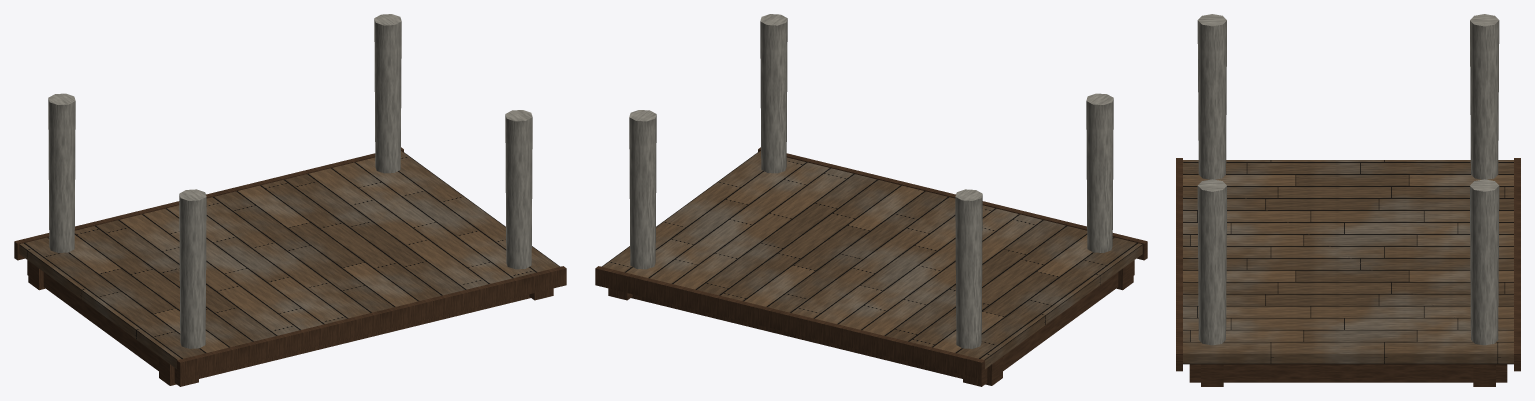
The model's file is SM_Art_Pier_405x300x100_P-150.gltf.
3 views of the same model, side by side, from view 1: azimuth 30°, elevation 25°; view 2: azimuth 150°, elevation 25°; view 3: azimuth 270°, elevation 25° (orthographic). The views are drawn at different scales.
Visible parts, largest first — view 1: SM_Art_Pier_405x300x100_P-150; view 2: SM_Art_Pier_405x300x100_P-150; view 3: SM_Art_Pier_405x300x100_P-150.
Boxes of the visible parts, x1,y1,x2,y2 form: SM_Art_Pier_405x300x100_P-150: (14, 14, 566, 386); SM_Art_Pier_405x300x100_P-150: (595, 14, 1147, 386); SM_Art_Pier_405x300x100_P-150: (1176, 14, 1520, 386).
Size of the model in its own units: 4.09 by 1.82 by 3.04.
3 materials, 3 textured.
